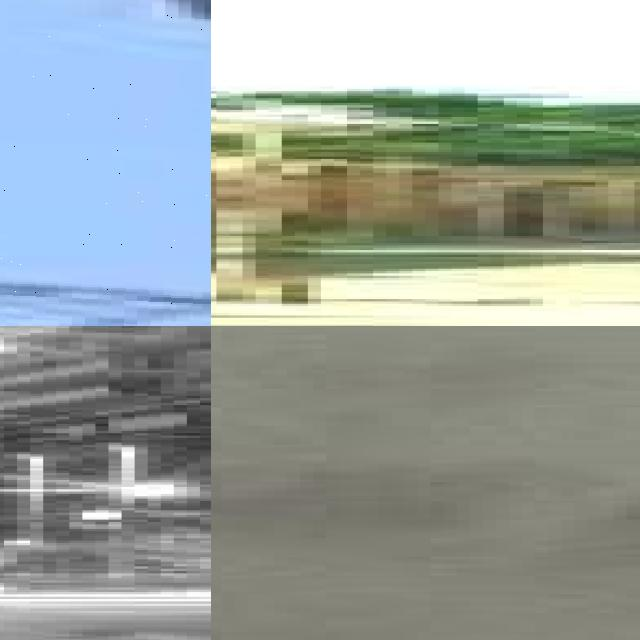street light: (0, 0, 211, 326), (134, 480, 211, 590)
